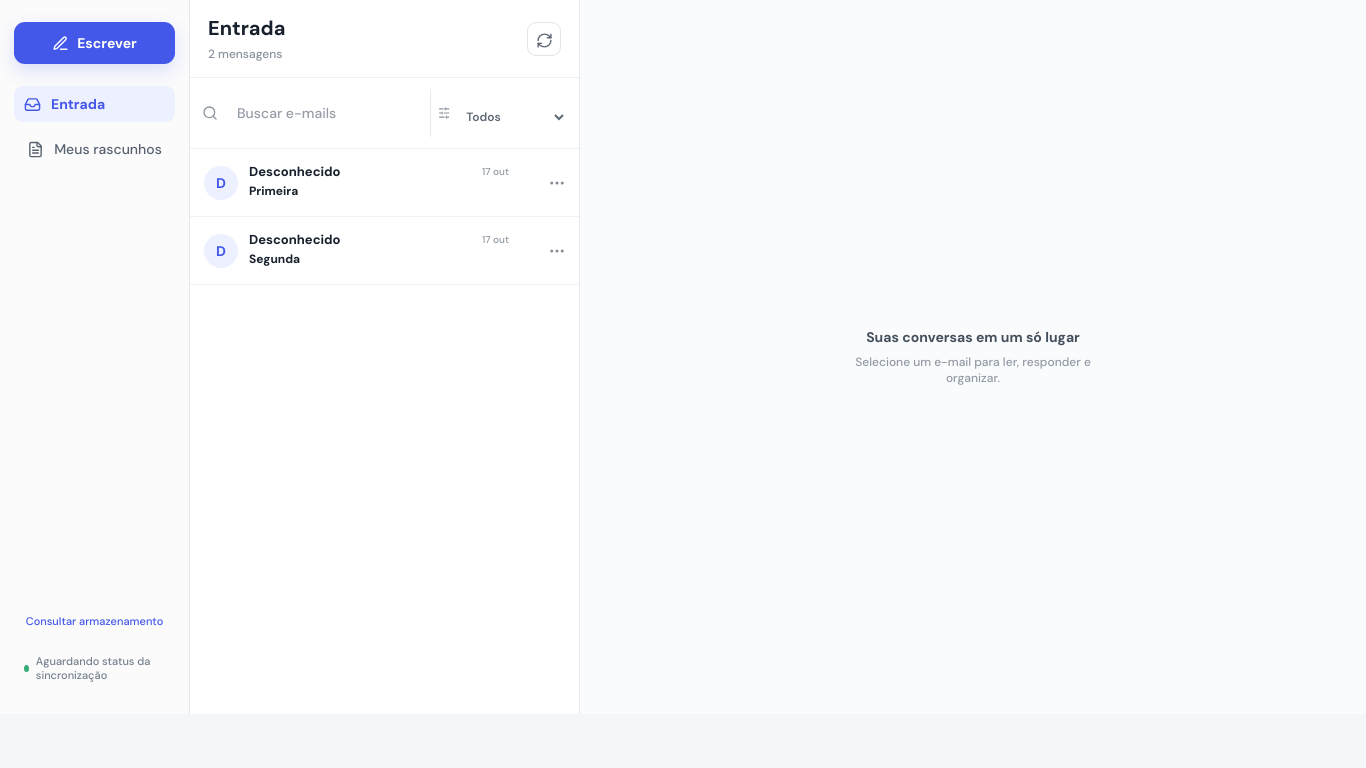
Test: ignora resposta atrasada de uma conversa que deixou de estar selecionada
Click the button with aria-label "Abrir conversa Primeira".
click(221, 182)  # box [190,149,541,216]
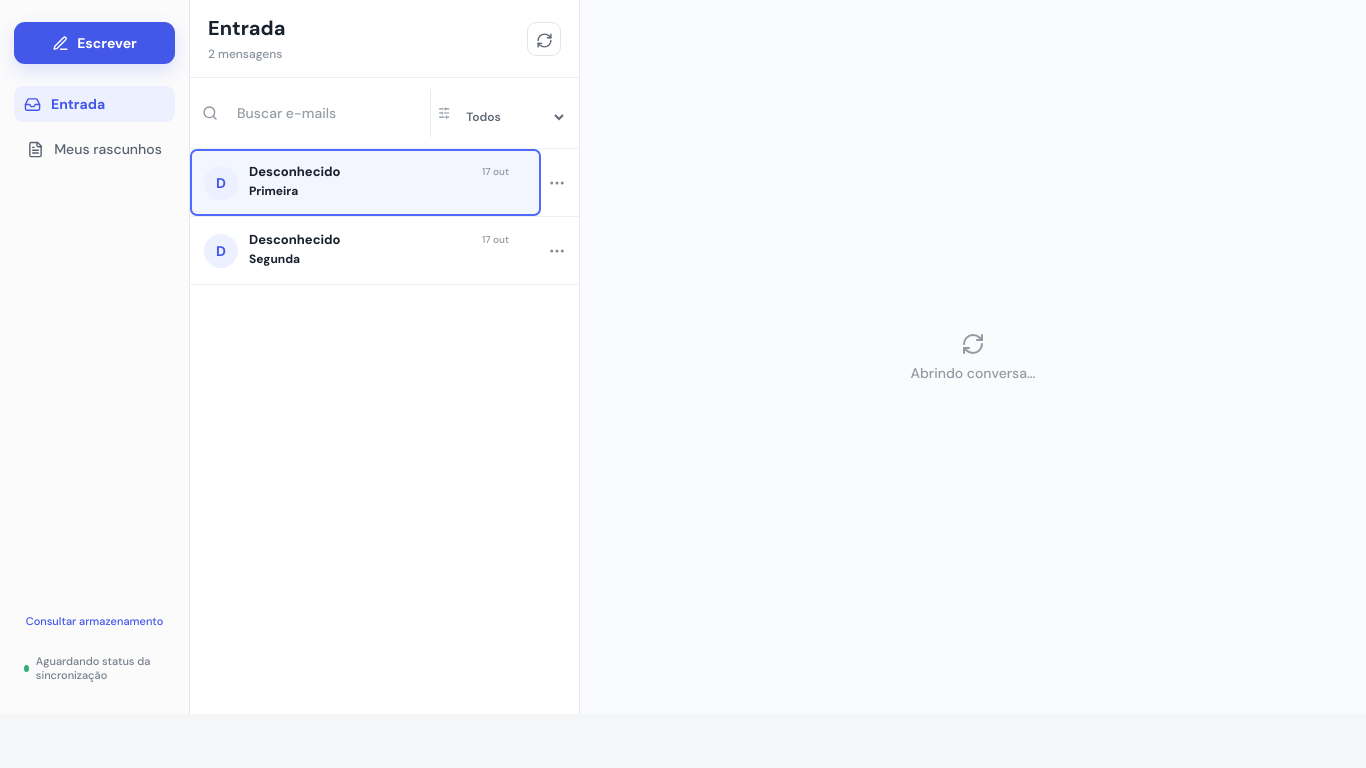
Click the button with aria-label "Abrir conversa Segunda".
click(221, 250)  # box [190,217,541,284]
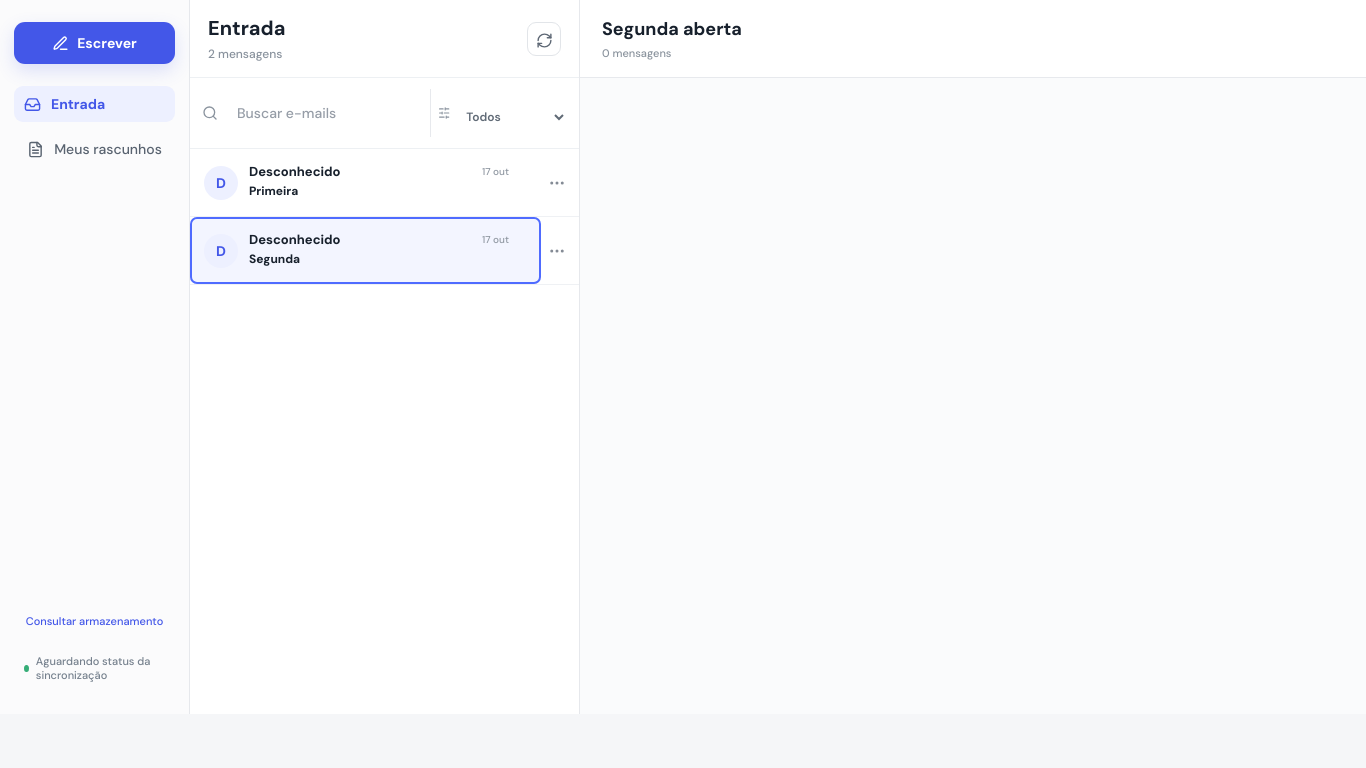
Expected: the heading "Segunda aberta" is shown, [602,16,742,40]
